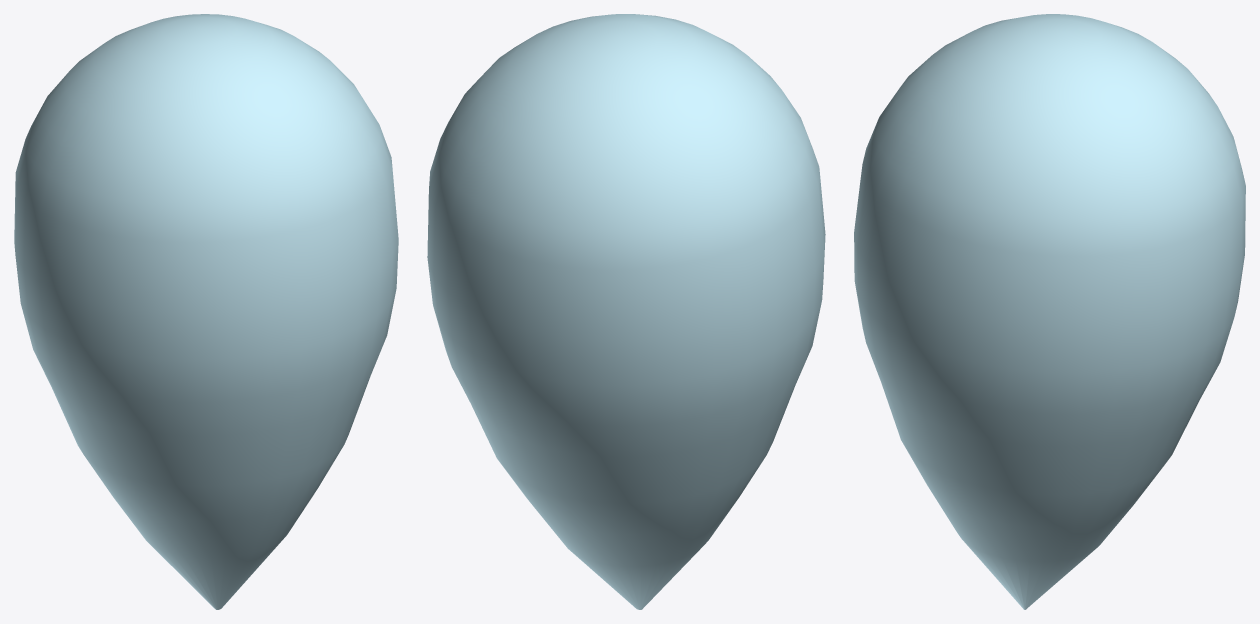
3 views of the same model, side by side, from view 1: azimuth 30°, elevation 25°; view 2: azimuth 150°, elevation 25°; view 3: azimuth 270°, elevation 25° (orthographic). The views are drawn at different scales.
Visible parts, largest first — view 1: Sphere001; view 2: Sphere001; view 3: Sphere001.
Boxes of the visible parts, box(x1,y1,x2,y2) form: Sphere001: box(14, 14, 398, 609); Sphere001: box(427, 14, 825, 609); Sphere001: box(854, 14, 1245, 609).
Size of the model in its own units: 15.55 by 25.27 by 15.55.
